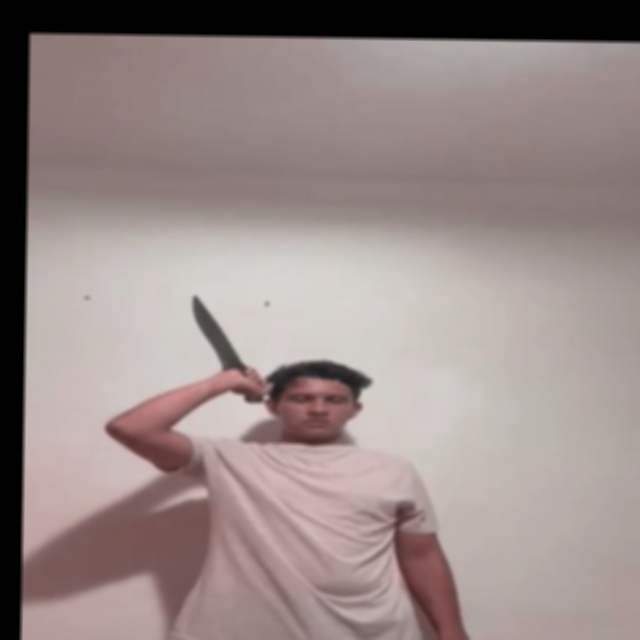Sharp-Object: (185, 295, 243, 368)
